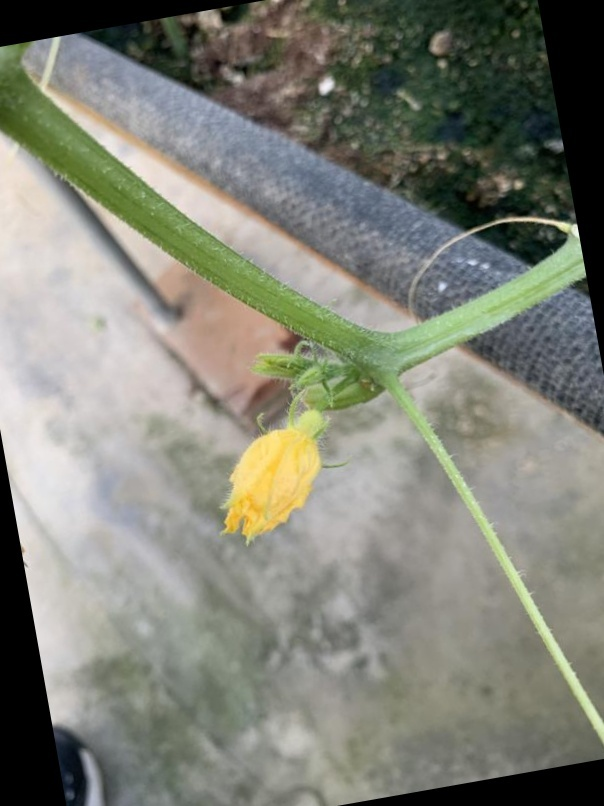bud: (178, 402, 348, 552)
